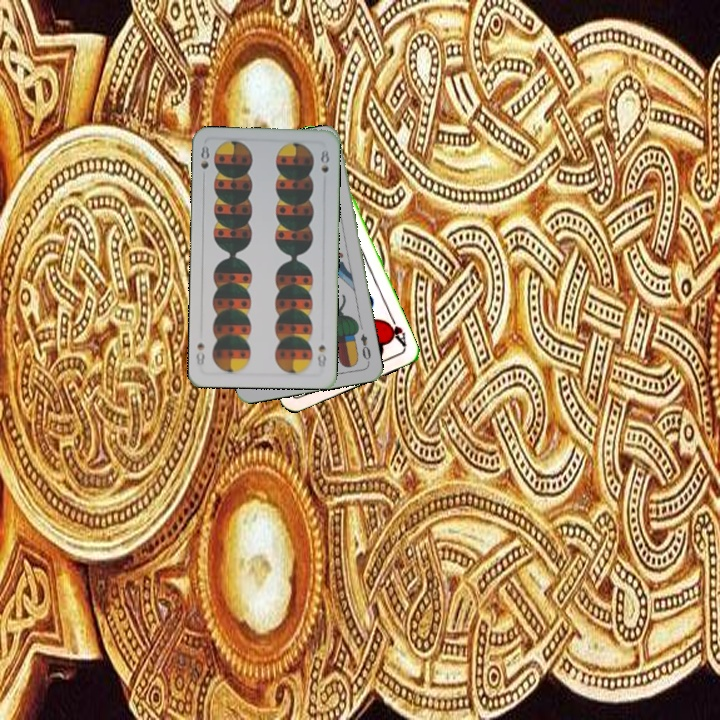EO: (357, 330, 374, 365)
HA: (381, 311, 409, 350)
S8: (196, 142, 212, 182), (313, 340, 328, 371)
